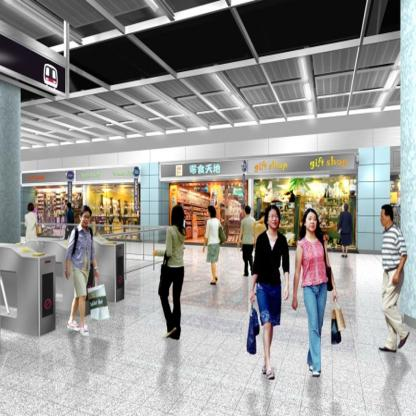face: (307, 214, 318, 232), (269, 212, 280, 229), (82, 214, 91, 228), (381, 211, 388, 226)
